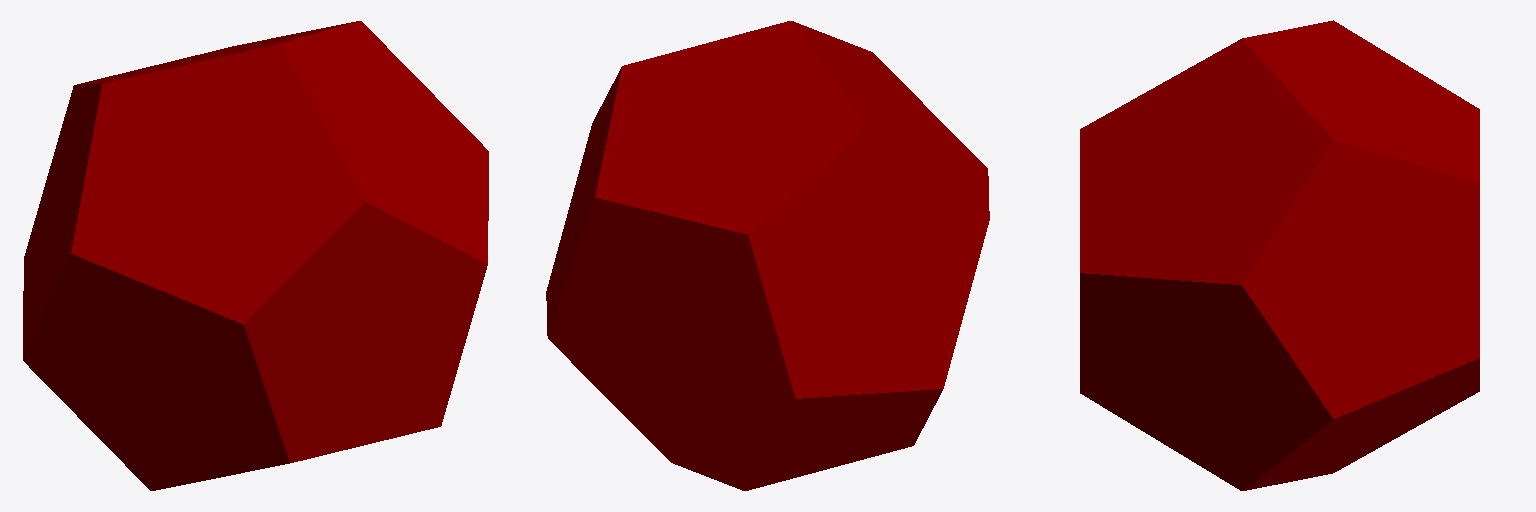
URDF robot description (truth_d12):
<?xml version="1.0" ?>
<robot name="truth_d12"
  xmlns:drake="https://drake.mit.edu/">
    <link name="cube">
        <inertial>
            <origin xyz="0 0 0" rpy="0 0 0"/>
            <mass value="0.5" />
            <inertia
                ixx="0.5"
                ixy="0"
                ixz="0"
                iyy="0.5"
                iyz="0"
                izz="0.5"/>
        </inertial>
        <visual>
            <origin xyz="0 0 0" rpy="0 0 0" />
            <geometry>
                <mesh filename="meshes/d12_4cm_mmscale.obj"/>
            </geometry>
            <material name="pennred">
                <color rgba="0.6 0 0 1.0" />
            </material>
        </visual>
        <collision>
            <geometry>
                <mesh filename="meshes/d12_4cm_mmscale.obj"/>
            </geometry>
            <origin xyz="0 0 0" rpy="0 0 0" />
            <drake:proximity_properties>
                <drake:mu_static value="0.05" />
                <drake:rigid_hydroelastic />
                <drake:mesh_resolution_hint value="0.001" />
                <drake:point_contact_stiffness value="10800.0" />
                <drake:hunt_crossley_dissipation value="0.4" />
            </drake:proximity_properties>
        </collision>
    </link>
</robot>

--- Facts derived from the render (not from the file) ---
Views: 3 orthographic renders of the robot side by side, from view 1: azimuth 30°, elevation 25°; view 2: azimuth 150°, elevation 25°; view 3: azimuth 270°, elevation 25°.
Robot: truth_d12 — 1 links, 0 joints (none); root link cube; default pose: all joints at 0.
Visible links, largest first — view 1: cube; view 2: cube; view 3: cube.
Link boxes in pixels (box(x1,y1,x2,y2)): cube: box(23, 21, 488, 490); cube: box(546, 21, 989, 490); cube: box(1080, 20, 1479, 490).
Size in the robot's own frame: 0.0417 by 0.0365 by 0.0439 metres.
1 mesh visuals loaded from 1 distinct referenced files (1 OBJ).
